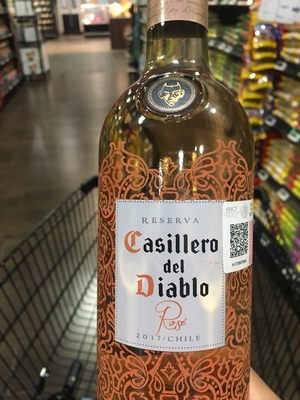casillero del diablo rose: (92, 23, 264, 395)
